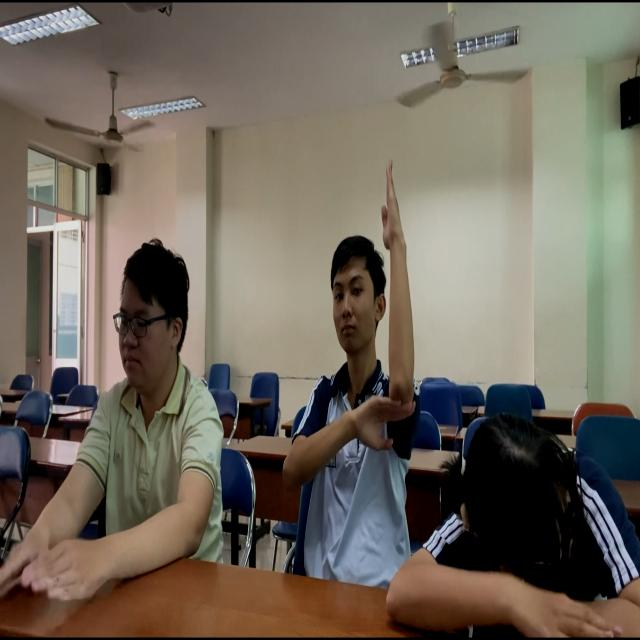sleep: (390, 400, 640, 640)
